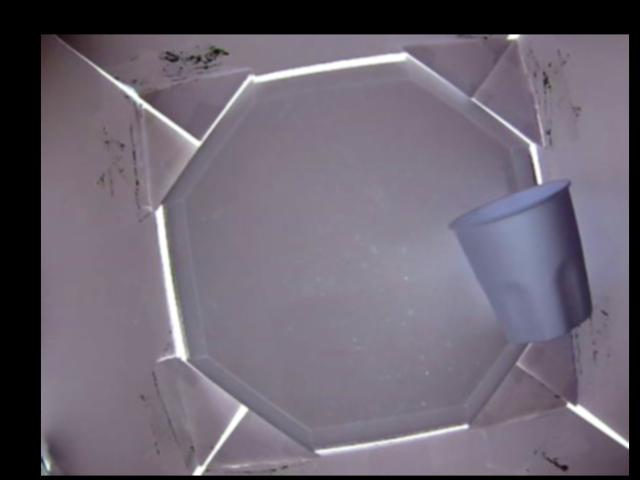Cup: (448, 180, 596, 342)
